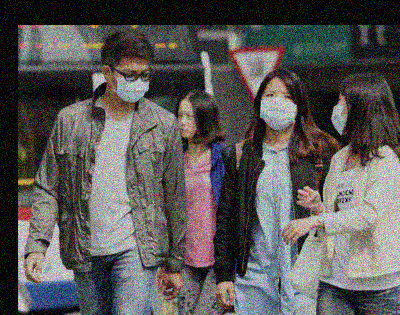with_mask: (109, 63, 151, 103), (259, 88, 299, 130), (330, 92, 350, 135)
without_mask: (175, 107, 197, 138)
